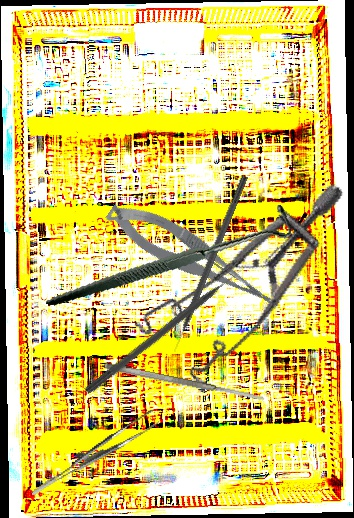Hook Surgical: (45, 168, 296, 344), (168, 174, 249, 353)
Micro Scissor: (101, 185, 281, 330)
Pusher: (83, 263, 249, 398)
Spatula Surgical: (102, 360, 268, 405)
Speculum: (120, 137, 347, 412)
Tissue Forceps: (20, 409, 166, 496)
